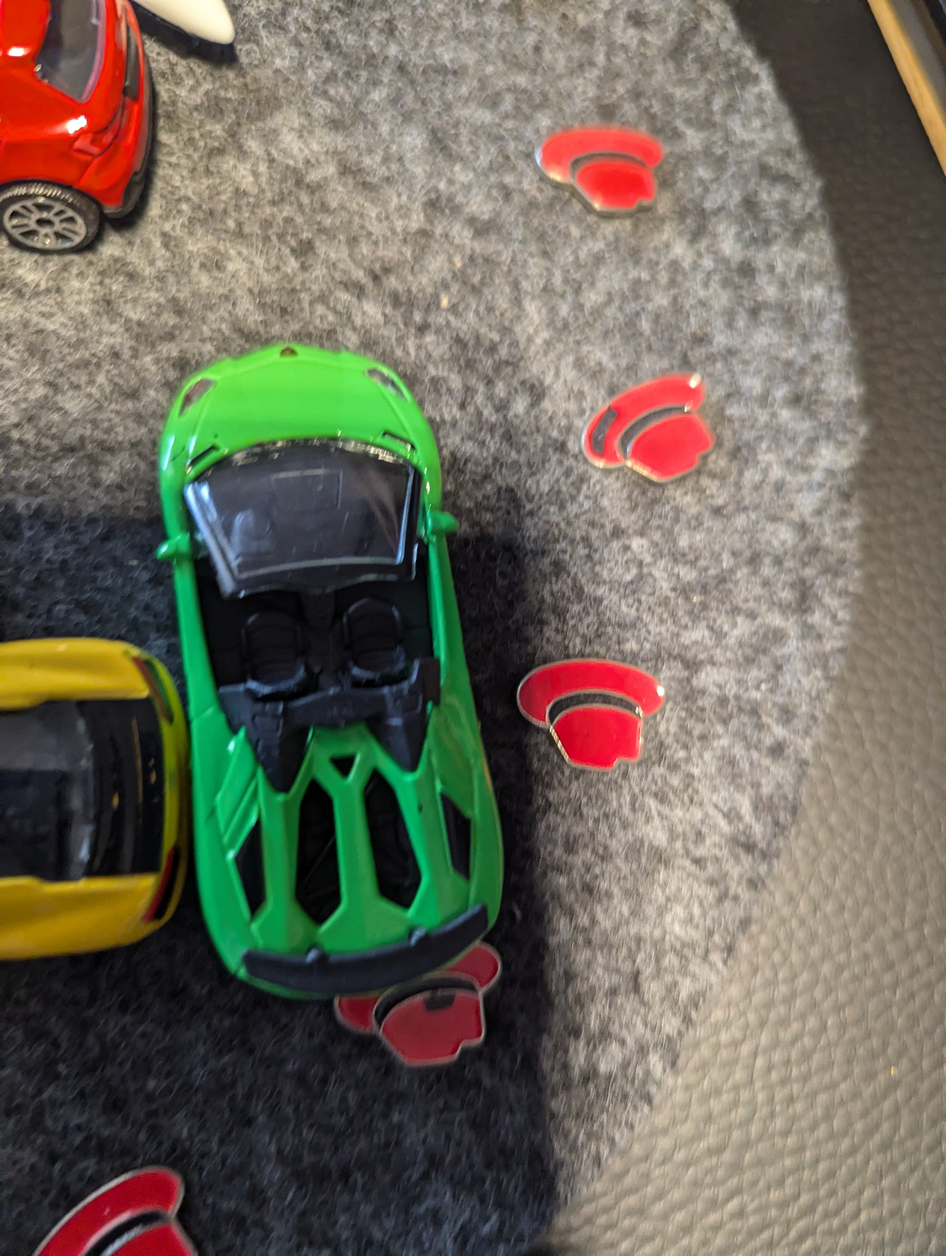Car: (133, 327, 521, 1060)
Red-Hat: (316, 925, 517, 1078), (487, 651, 705, 783), (558, 343, 722, 518), (16, 1140, 217, 1256), (517, 124, 706, 235)
Scratch: (581, 394, 635, 464), (407, 984, 470, 1023)
